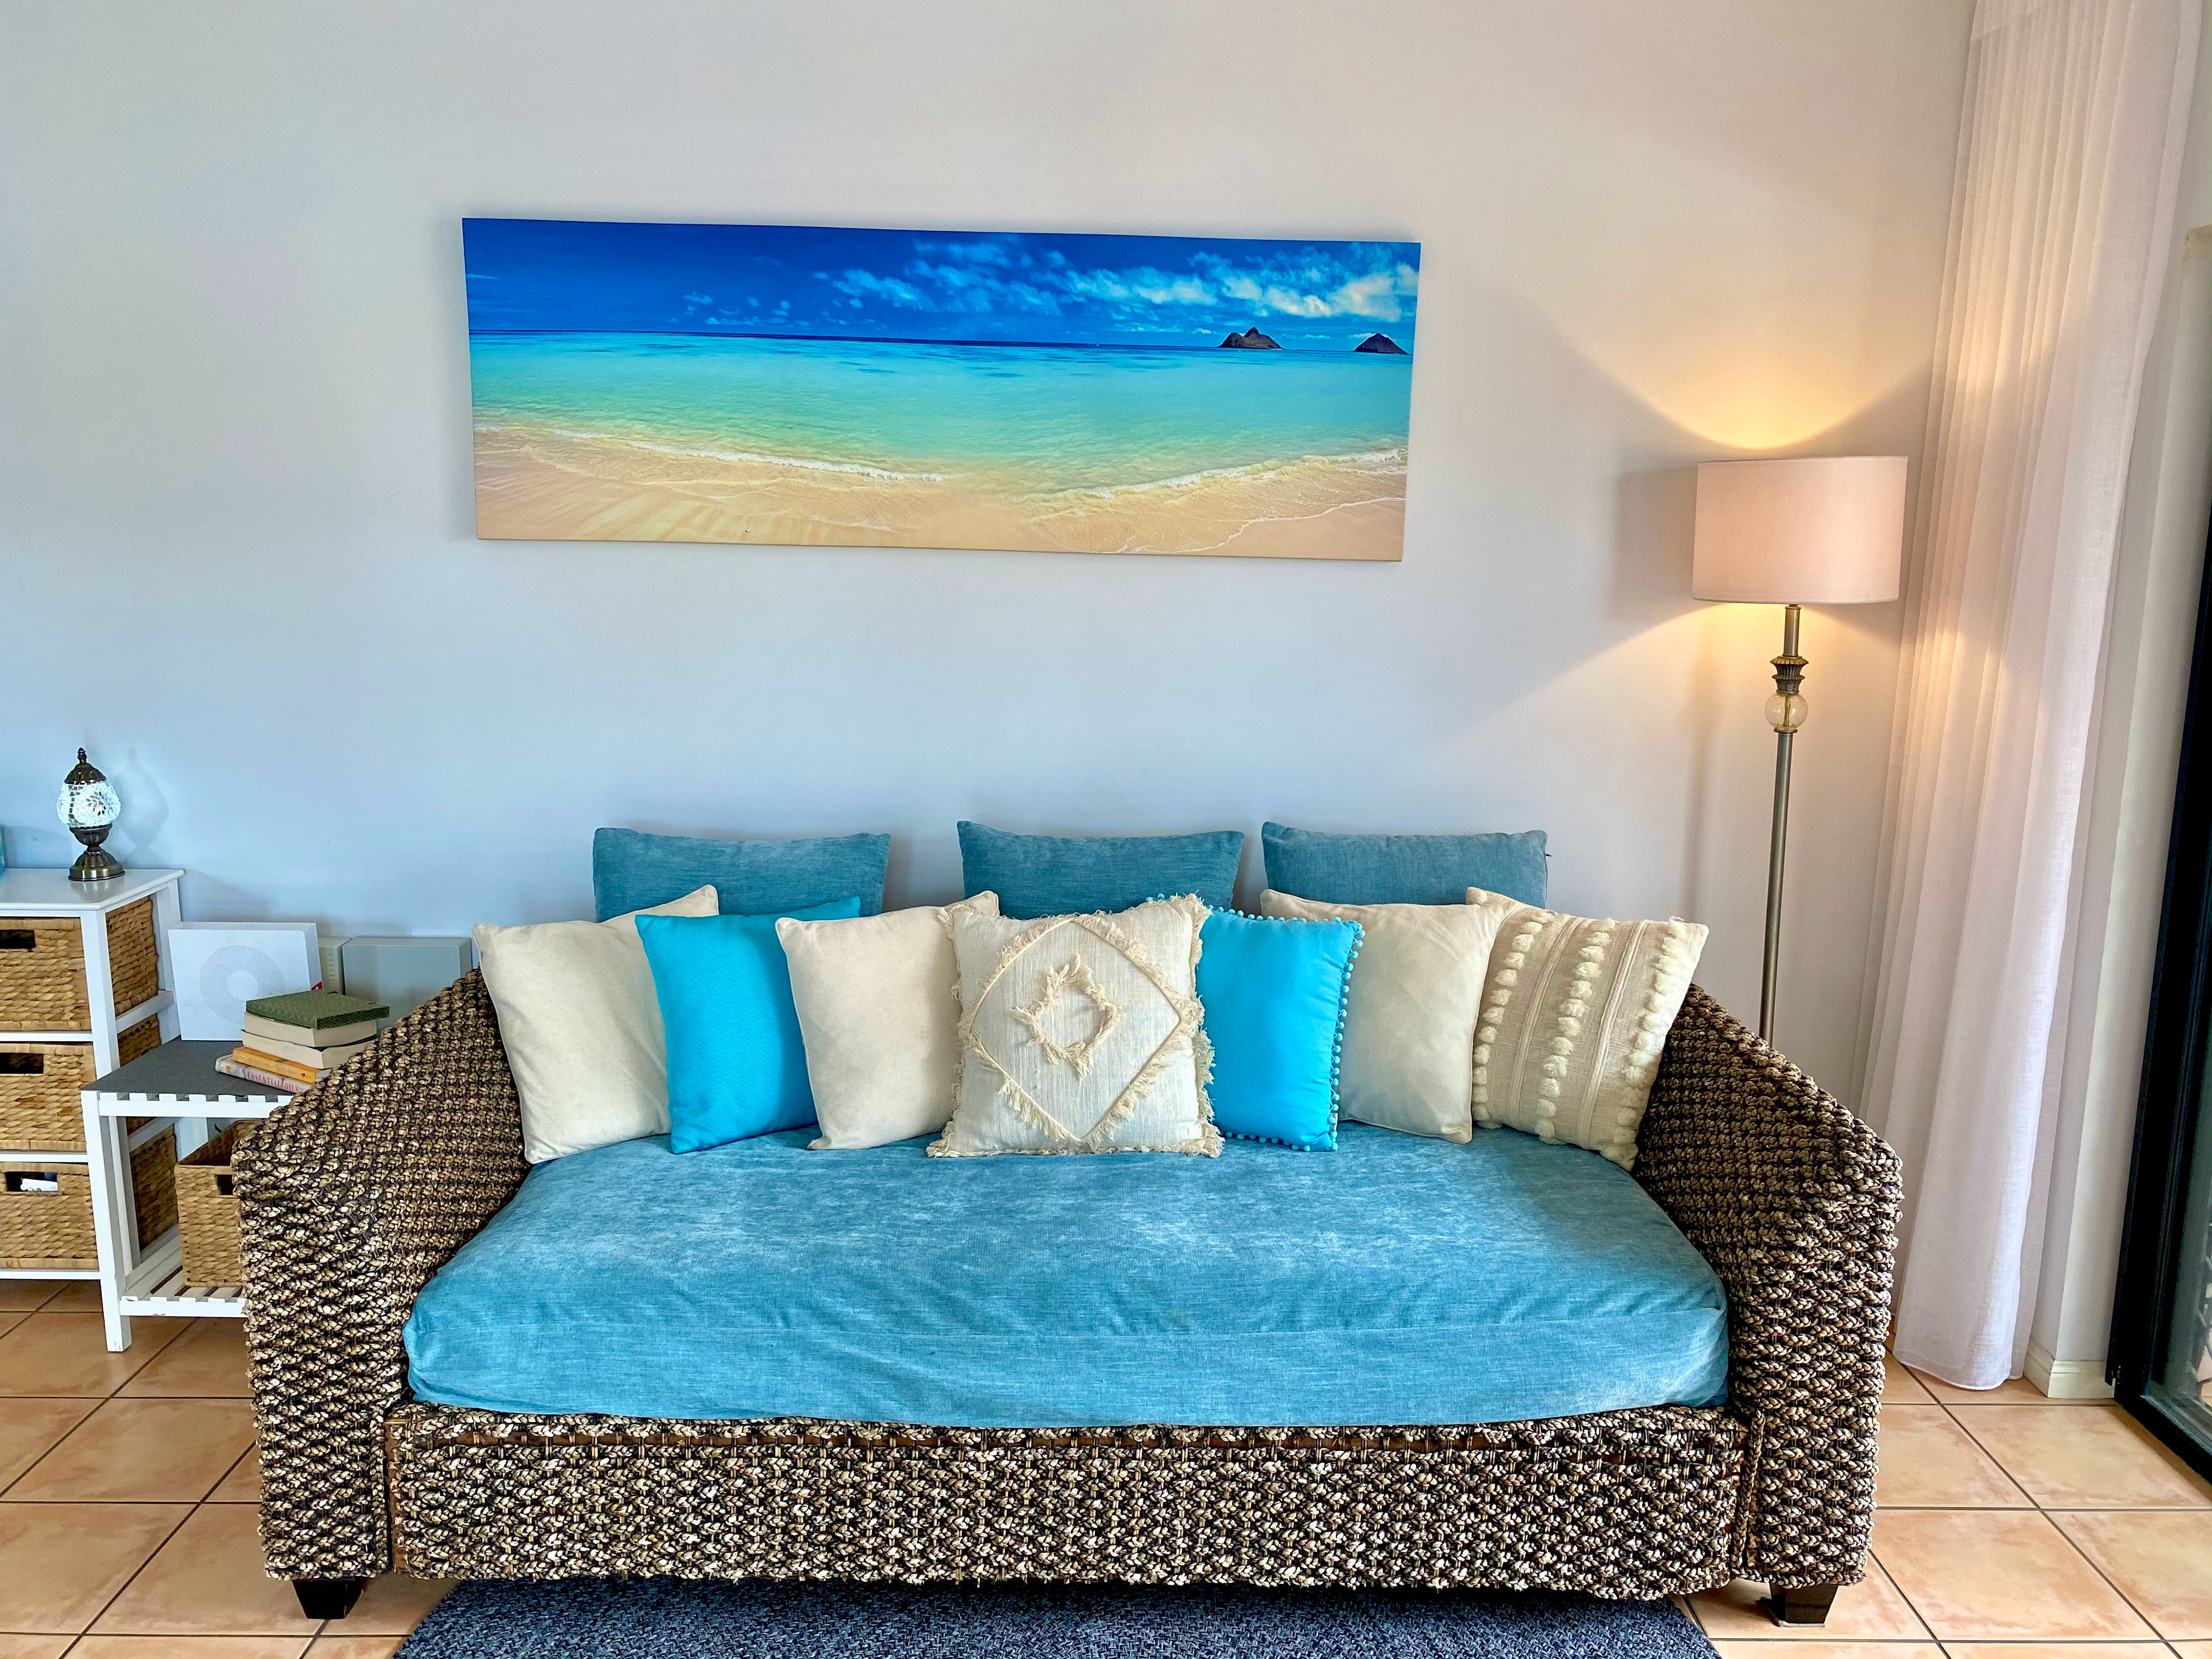Painting: (441, 199, 1423, 582)
Sofa: (207, 823, 1905, 1629)
